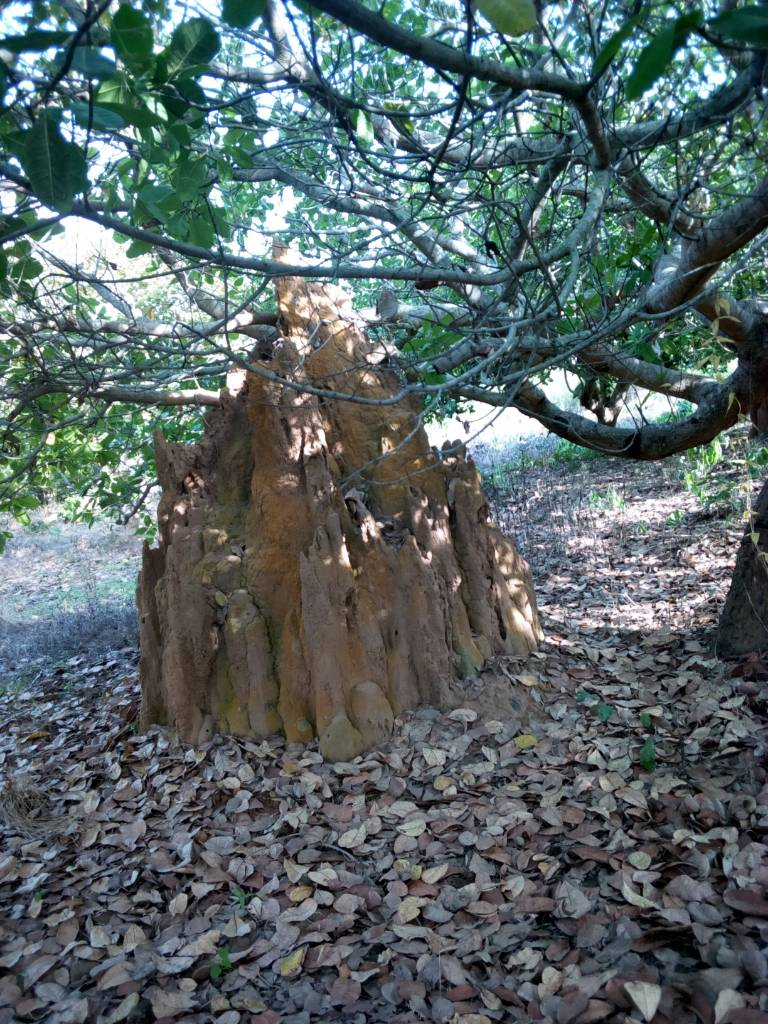Termites: (154, 428, 366, 741), (382, 452, 511, 680)
